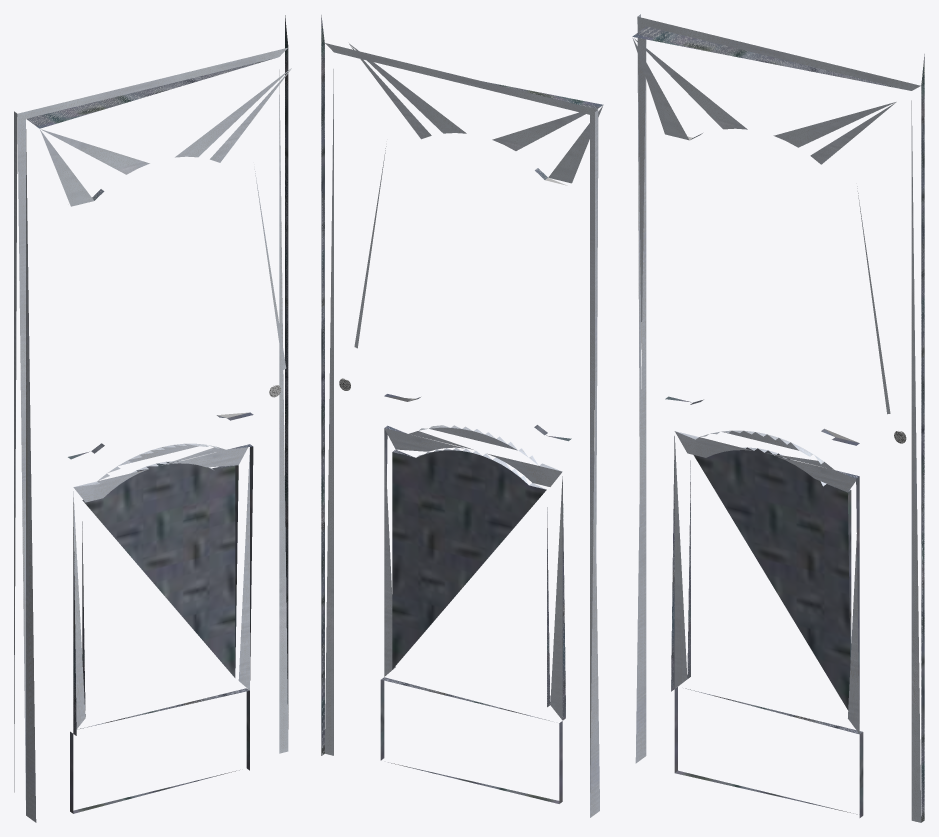
The picture shows the model from 3 angles, left to right: view 1: azimuth 30°, elevation 25°; view 2: azimuth 150°, elevation 25°; view 3: azimuth 330°, elevation 25°; orthographic projection. The views are drawn at different scales.
Size of the model in its own units: 0.6866 by 1.78 by 0.0746.
